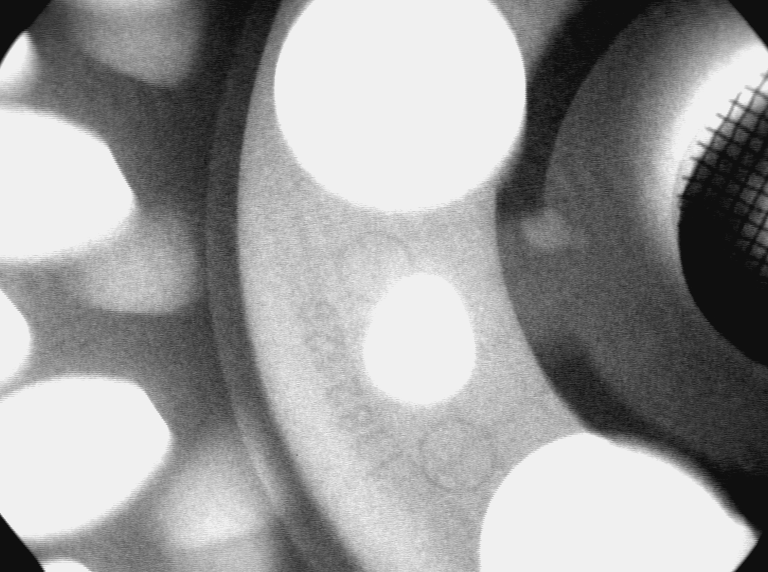defect: (522, 205, 593, 258)
